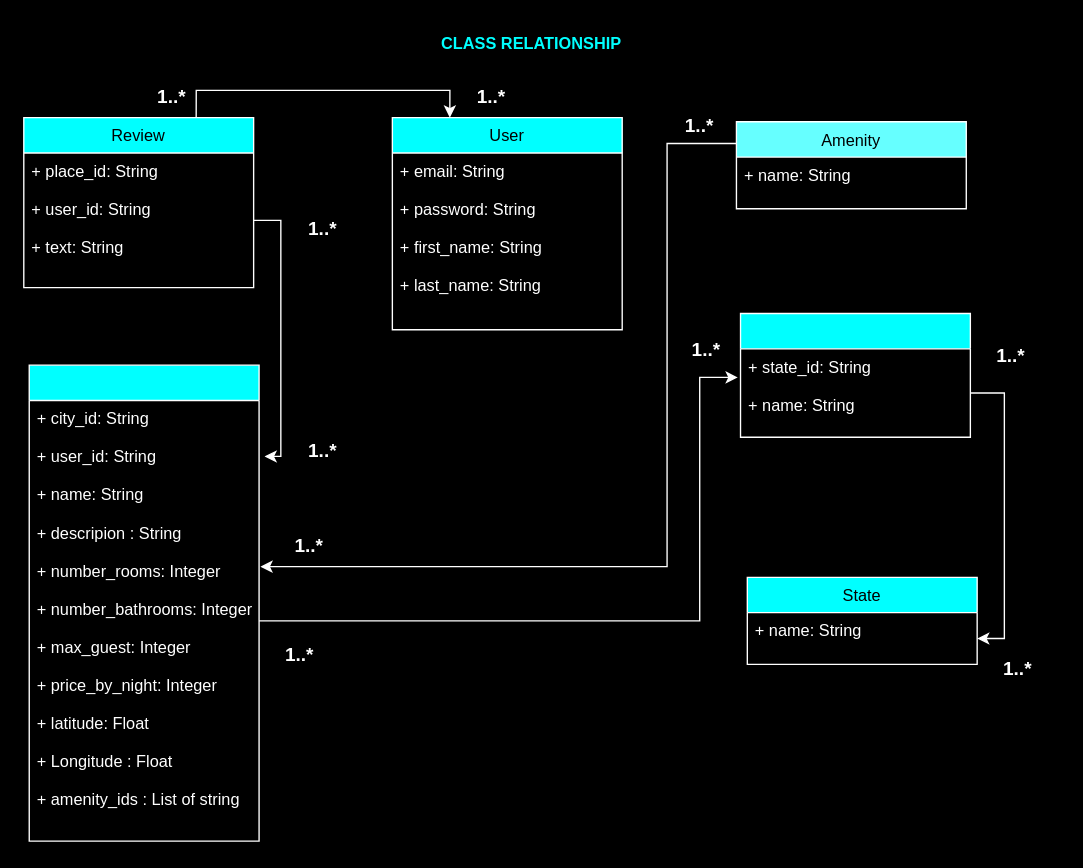
The diagram is 1083 pixels wide and 868 high, and some of its shapes have lost their labels. Here are the shapes that lost their labels. From the top down, the box of each, then its label:
(739, 312, 970, 437): City
(28, 364, 259, 841): Place
